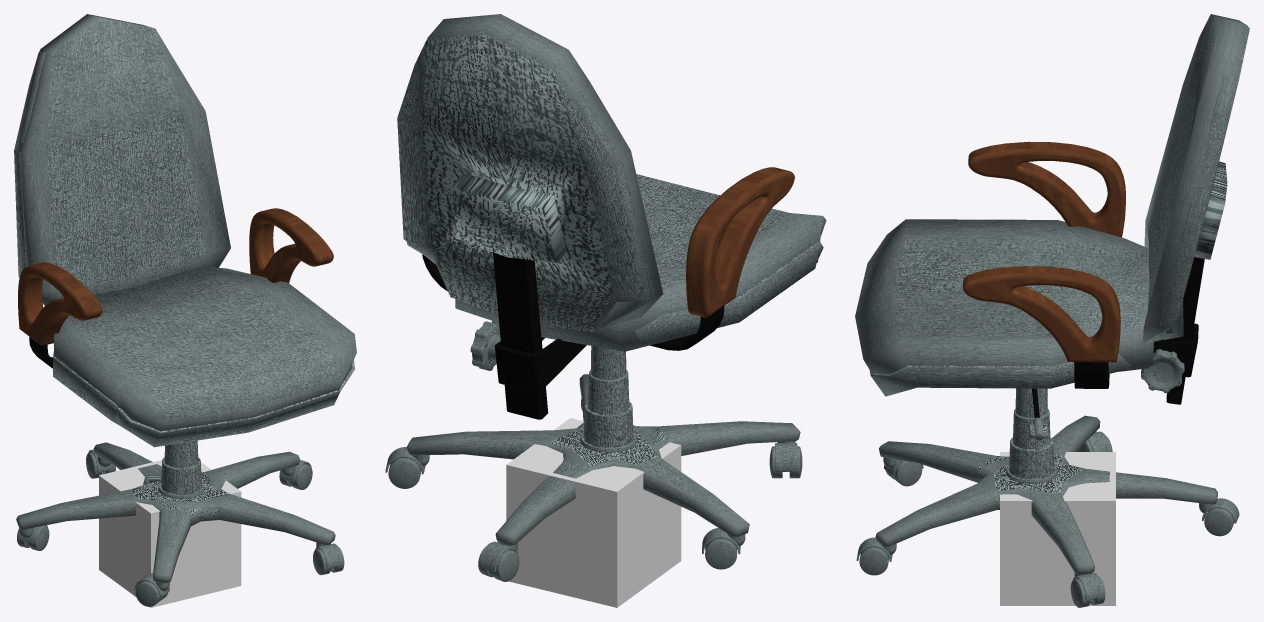
File: officechair.fbx
3 renders of one model, left to right at view 1: azimuth 30°, elevation 25°; view 2: azimuth 150°, elevation 25°; view 3: azimuth 270°, elevation 25°, orthographic. The views are drawn at different scales.
Parts seen in each view (by area): view 1: Cube.001, Cube_2, Cylinder, Cube, Низ_сидения_3, Выдавливание, Cone, Закругление_1, Низ_сидения, Закругление_2, Шапка_1, Шапка_2 (+2 smaller); view 2: Низ_сидения, Cube, Cylinder, Cube_2, Cube.001, Стойка_спинки, Cone, Низ_сидения_3, Выдавливание, Extrude_NURBS_2, Закругление_1, Шапка_1 (+7 smaller); view 3: Cube_2, Cylinder, Cube.001, Cube, Низ_сидения, Низ_сидения_3, Закругление_1, Выдавливание, Закругление_2, Cone, Шапка_1, Шапка_2 (+8 smaller).
Part boxes in pixels (<box>): Cube.001: <box>15,14,230,305</box>; Cube_2: <box>54,266,356,431</box>; Cylinder: <box>16,442,335,582</box>; Cube: <box>99,460,241,607</box>; Низ_сидения_3: <box>53,352,354,447</box>; Выдавливание: <box>28,208,331,345</box>; Cone: <box>158,440,204,498</box>; Закругление_1: <box>18,208,333,345</box>; Низ_сидения: <box>14,51,45,277</box>; Закругление_2: <box>39,211,319,333</box>; Шапка_1: <box>18,270,82,341</box>; Шапка_2: <box>249,216,313,281</box>; Низ_сидения: <box>397,34,655,332</box>; Cube: <box>506,418,681,607</box>; Cylinder: <box>406,374,800,545</box>; Cube_2: <box>455,174,826,350</box>; Cube.001: <box>407,14,663,327</box>; Стойка_спинки: <box>493,252,548,419</box>; Cone: <box>580,346,637,452</box>; Низ_сидения_3: <box>457,241,823,351</box>; Выдавливание: <box>688,167,788,317</box>; Extrude_NURBS_2: <box>494,337,586,392</box>; Закругление_1: <box>702,171,794,317</box>; Шапка_1: <box>709,177,793,311</box>; Cube_2: <box>855,219,1154,374</box>; Cylinder: <box>875,415,1217,574</box>; Cube.001: <box>1142,14,1248,343</box>; Cube: <box>1000,452,1115,605</box>; Низ_сидения: <box>1158,27,1249,339</box>; Низ_сидения_3: <box>869,353,1149,396</box>; Закругление_1: <box>963,141,1120,362</box>; Выдавливание: <box>963,142,1125,343</box>; Закругление_2: <box>965,148,1125,337</box>; Cone: <box>1005,388,1057,483</box>; Шапка_1: <box>967,279,1115,359</box>; Шапка_2: <box>973,154,1120,235</box>.
Size of the model in its own units: 652 by 1072 by 681.
Materials: 6 (4 with a texture image).
